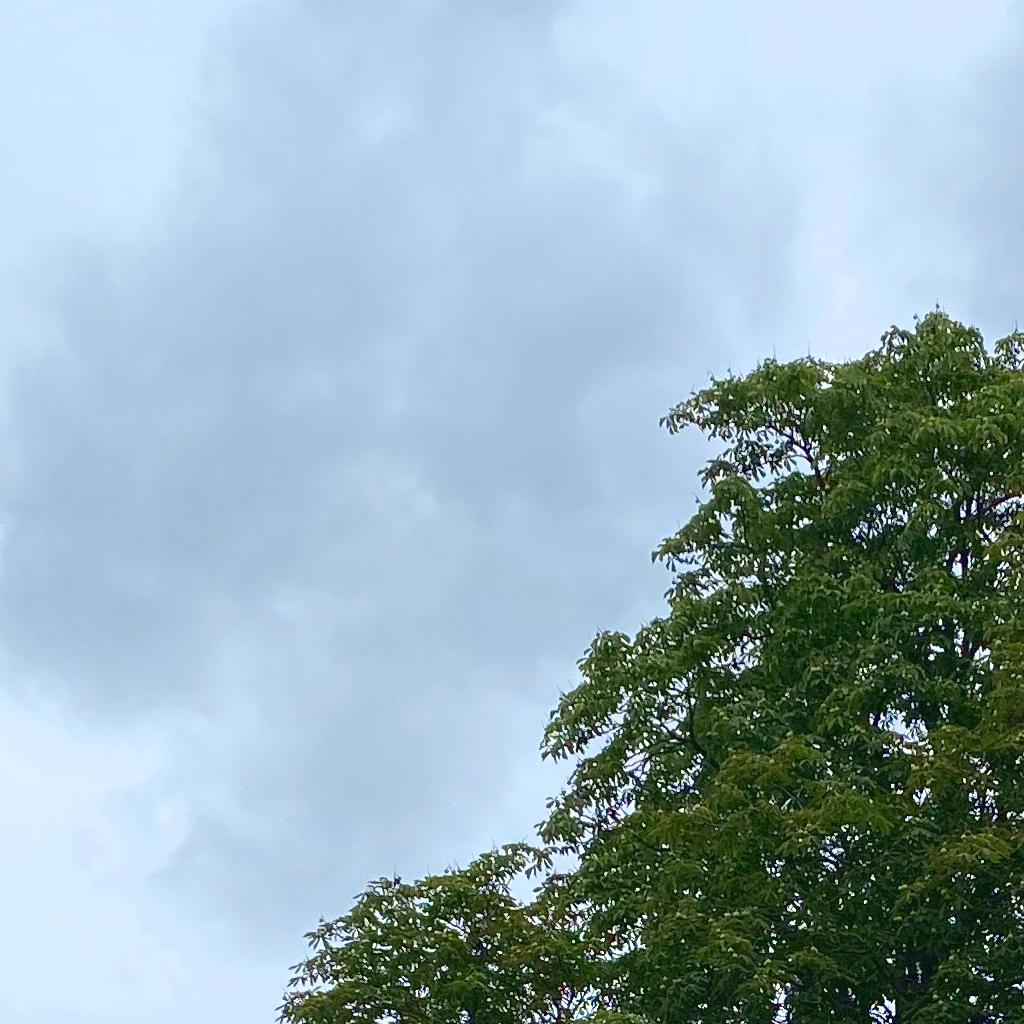tree: (276, 300, 1023, 1023)
